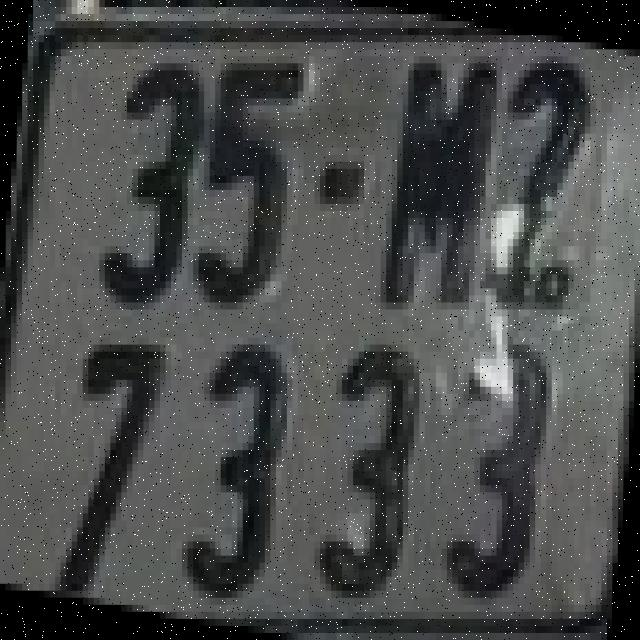2: (499, 53, 593, 299)
3: (179, 338, 290, 598), (441, 341, 552, 601), (94, 56, 204, 310), (317, 341, 422, 594)
5: (196, 53, 306, 306)
7: (50, 334, 166, 587)
M: (381, 53, 491, 313)
